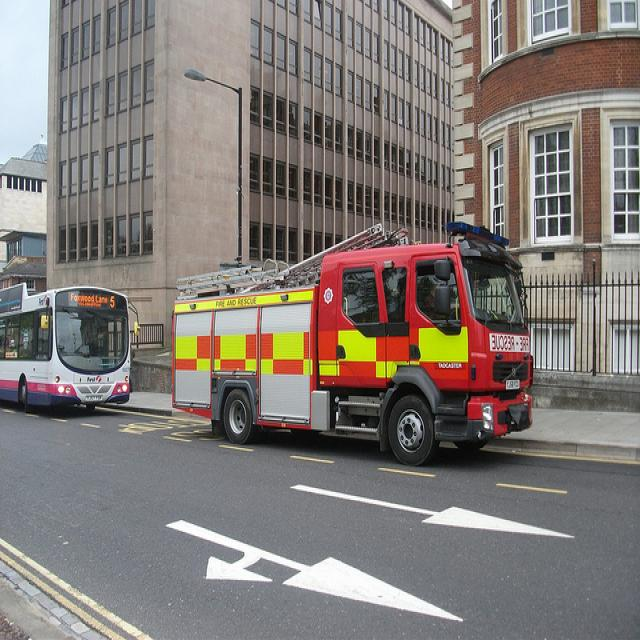Vehicle: (172, 218, 536, 466), (0, 281, 131, 409)
